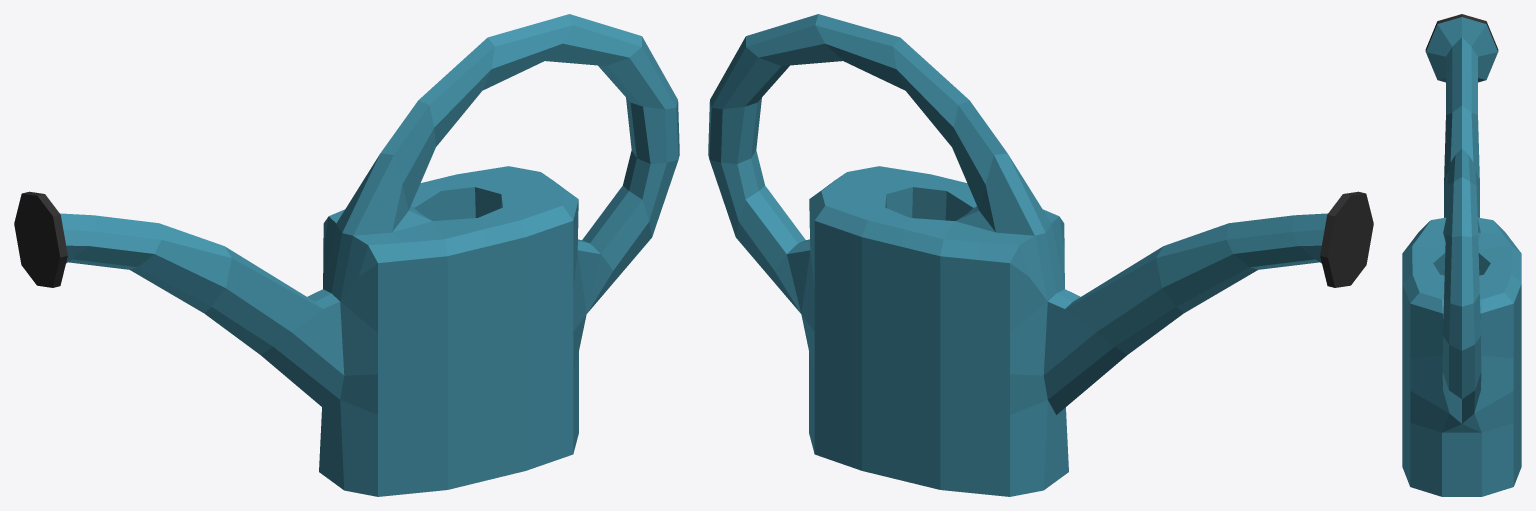
Rendered from watering can.glb.
3 views of the same model, side by side, from view 1: azimuth 30°, elevation 25°; view 2: azimuth 150°, elevation 25°; view 3: azimuth 270°, elevation 25° (orthographic). The views are drawn at different scales.
Parts seen in each view (by area): view 1: Куб; view 2: Куб; view 3: Куб.
Boxes of the visible parts, <box> form: Куб: <box>14,14,679,496</box>; Куб: <box>708,14,1373,496</box>; Куб: <box>1402,14,1521,496</box>.
Size of the model in its own units: 1.03 by 0.629 by 0.2114.
